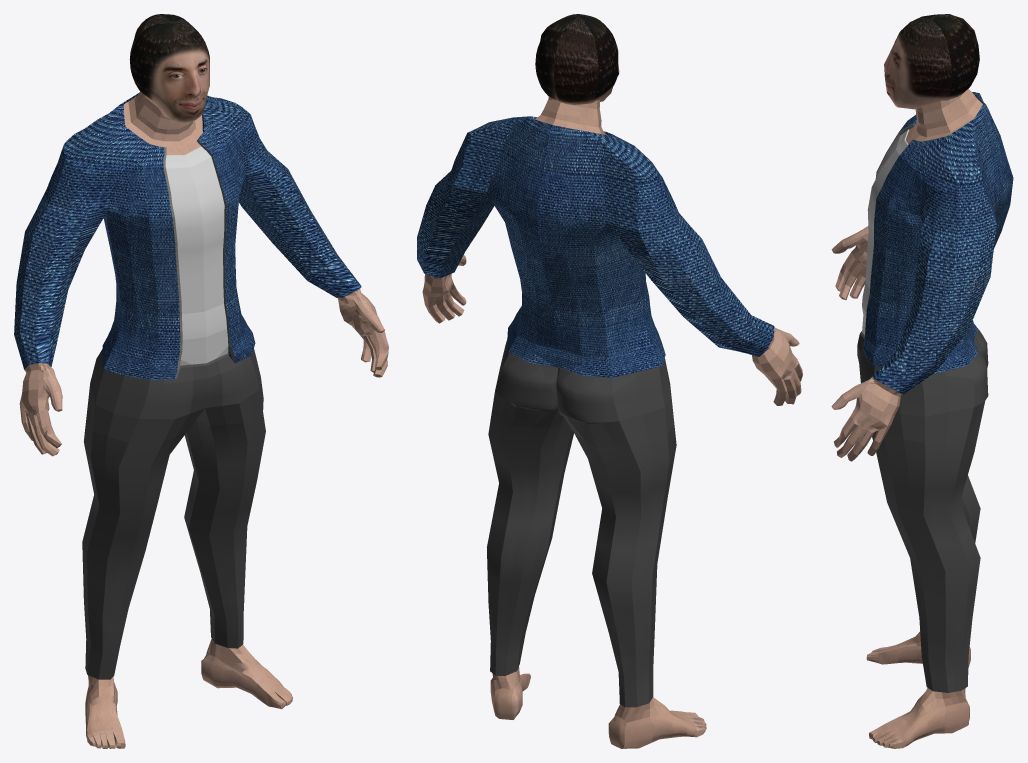
Rendered from LudwigMänFBX.fbx.
The picture shows the model from 3 angles, left to right: view 1: azimuth 30°, elevation 25°; view 2: azimuth 150°, elevation 25°; view 3: azimuth 270°, elevation 25°; orthographic projection. The views are drawn at different scales.
Visible parts, largest first — view 1: pasted__Head; view 2: pasted__Head; view 3: pasted__Head.
Part boxes in pixels (<box>): pasted__Head: <box>14,14,388,748</box>; pasted__Head: <box>417,14,802,748</box>; pasted__Head: <box>831,14,1013,748</box>.
Bounding box in the file's own units: 6.03 × 11.29 × 2.72.
Materials: 6 (3 with a texture image).
